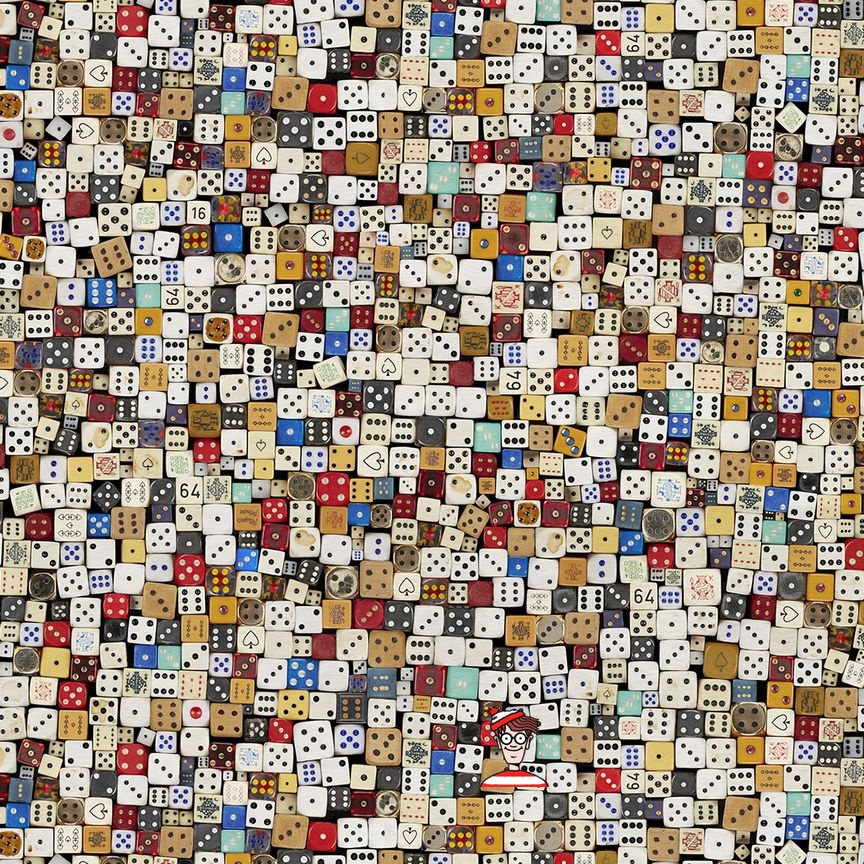waldo: (479, 705, 549, 787)
